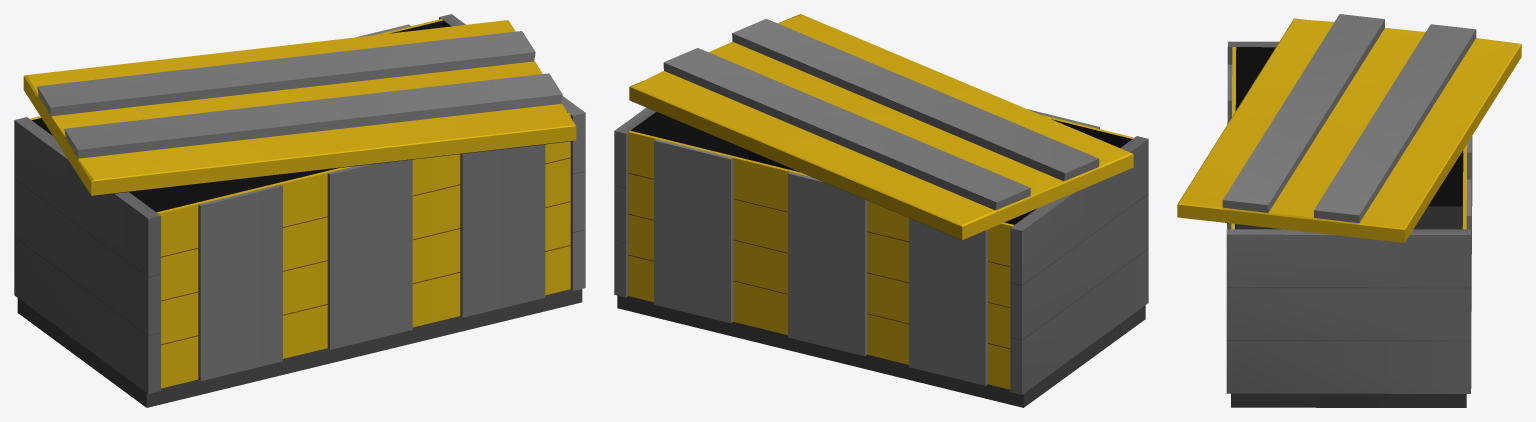
Rendered from Med Colored Crate #2.fbx.
The picture shows the model from 3 angles, left to right: view 1: azimuth 30°, elevation 25°; view 2: azimuth 150°, elevation 25°; view 3: azimuth 270°, elevation 25°; orthographic projection. The views are drawn at different scales.
Parts seen in each view (by area): view 1: Med Colored Crate #2; view 2: Med Colored Crate #2; view 3: Med Colored Crate #2.
Part boxes in pixels (x1=…): Med Colored Crate #2: x1=14, y1=14, x2=585, y2=407; Med Colored Crate #2: x1=614, y1=14, x2=1148, y2=407; Med Colored Crate #2: x1=1177, y1=14, x2=1521, y2=407.
Bounding box in the file's own units: 197 × 312 × 454.
Materials: 1 (1 with a texture image).
